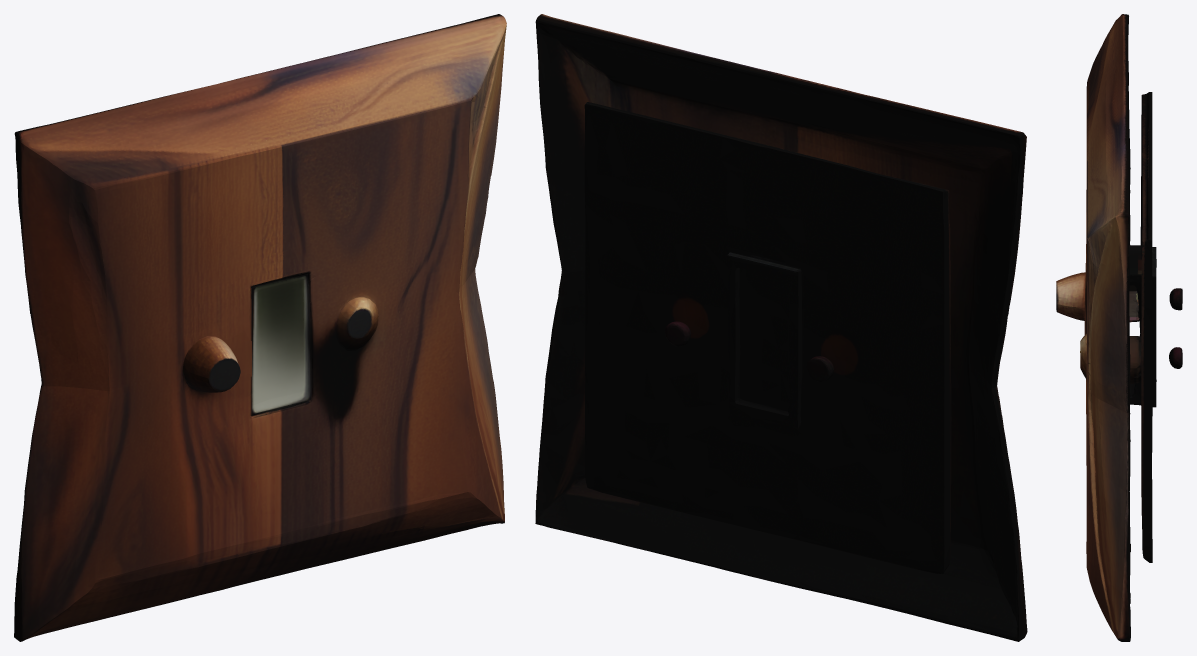
Rendered from wooden-light-switch-cover-futuristic.jpeg.glb.
3 renders of one model, left to right at view 1: azimuth 30°, elevation 25°; view 2: azimuth 150°, elevation 25°; view 3: azimuth 270°, elevation 25°, orthographic. The views are drawn at different scales.
Visible parts, largest first — view 1: world; view 2: world; view 3: world.
Boxes of the visible parts, box(x1,y1,x2,y2) form: world: box(14, 14, 506, 641); world: box(535, 14, 1027, 641); world: box(1056, 14, 1182, 641).
Bounding box in the file's own units: 1 × 1 × 0.2669.
Materials: 1 (1 with a texture image).
